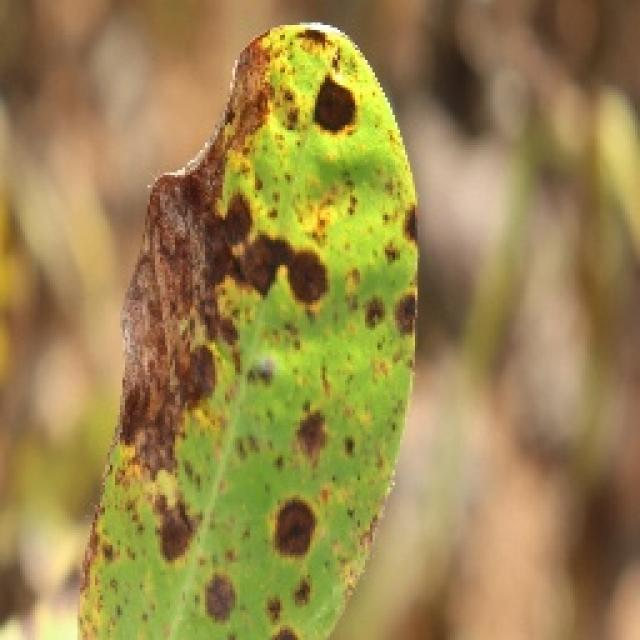Yellowish: (77, 0, 433, 640)
